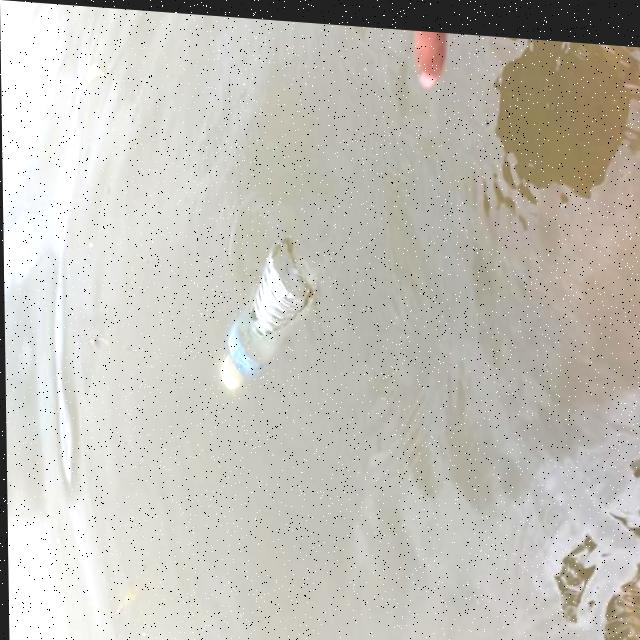waterbottle: (205, 214, 327, 400)
